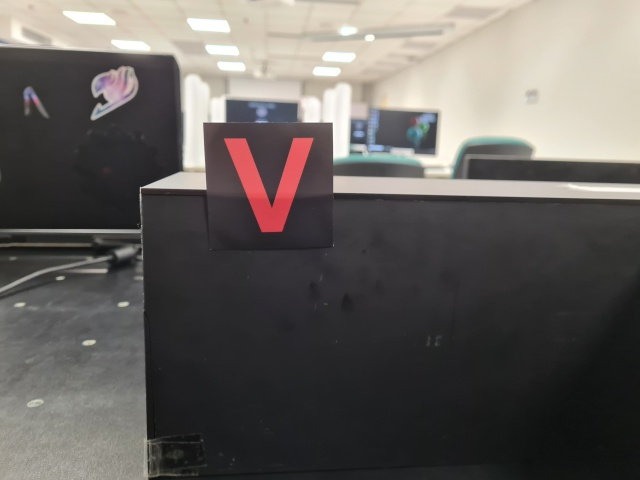alphabet_v: (202, 121, 337, 251)
